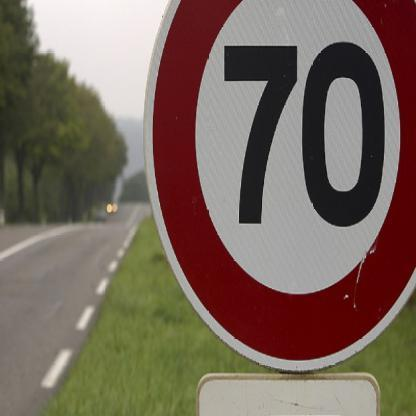Speed Limit 70: (157, 0, 416, 361)
